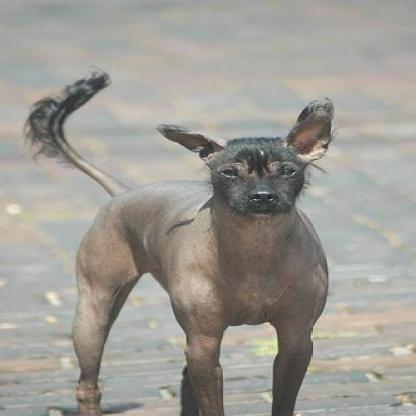Mexican_hairless: (25, 72, 328, 413)
